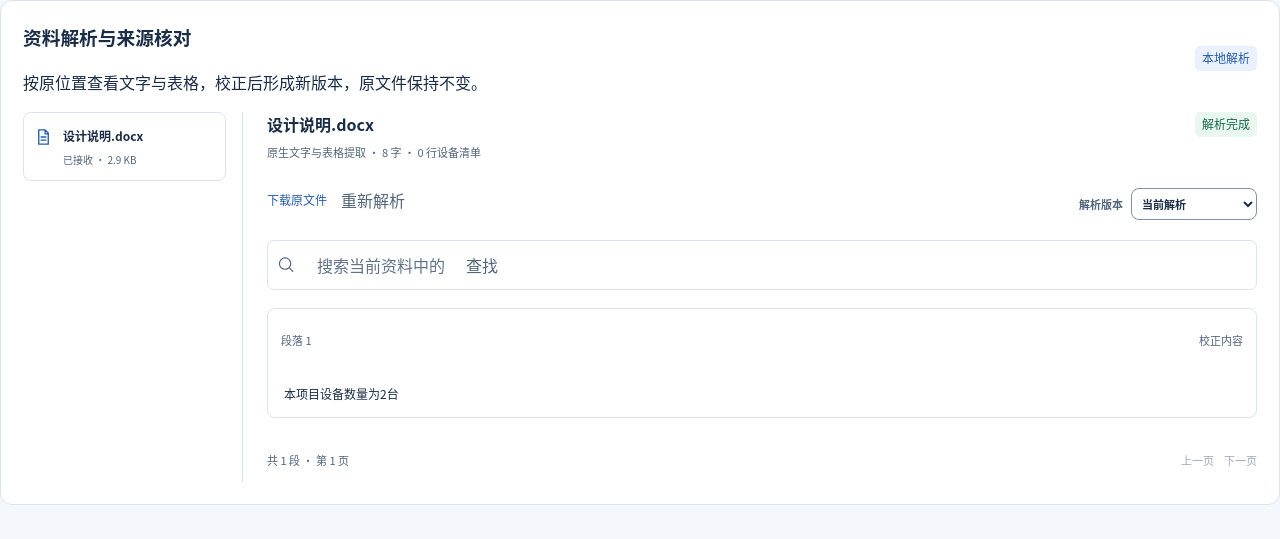
Scenario: 资料解析与来源核对 › requests the selected historical snapshot and does not offer writes
Select "v1 · 09/26 01:00" in the dropdown named "选择解析版本" at (1194, 204), box [1131, 188, 1257, 220]
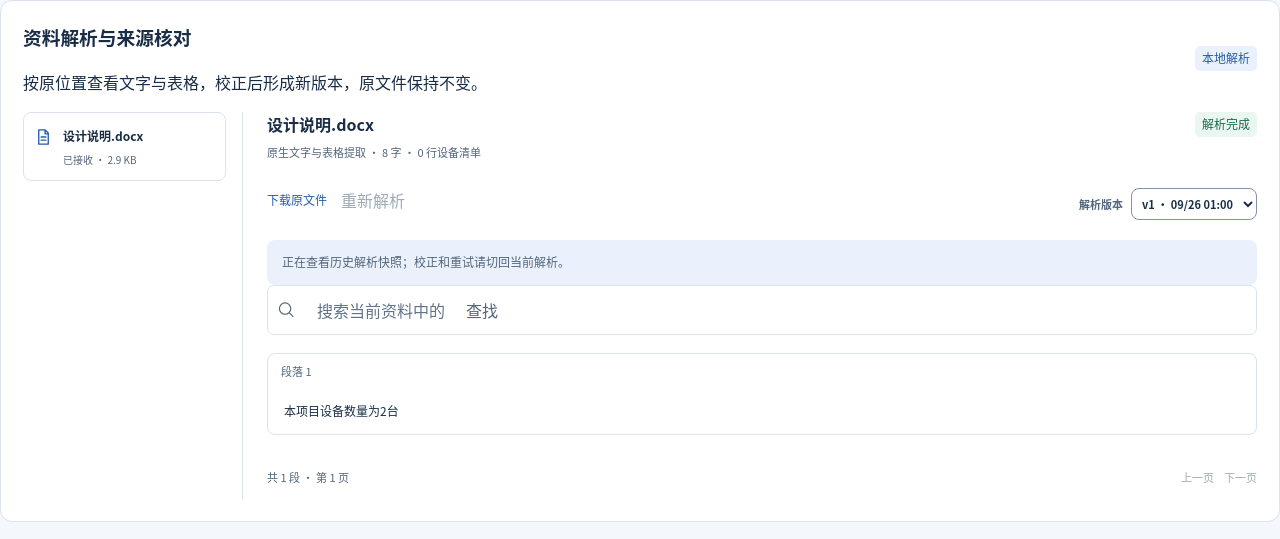
Now the text "正在查看历史解析快照；校正和重试请切回当前解析。" is shown, box [267, 240, 1257, 285]
Now the button "校正内容" is gone
Now the button "重新解析" is disabled, box [341, 178, 405, 222]
